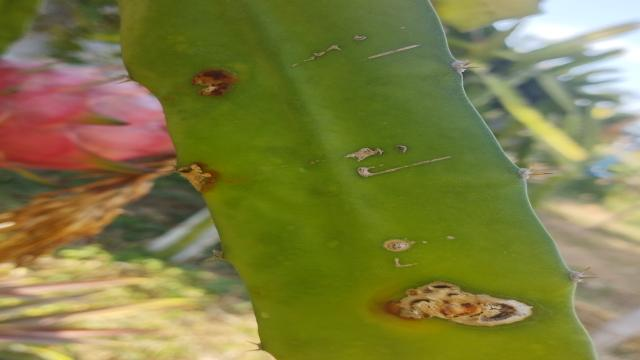stemcanker: (374, 237, 420, 257)
